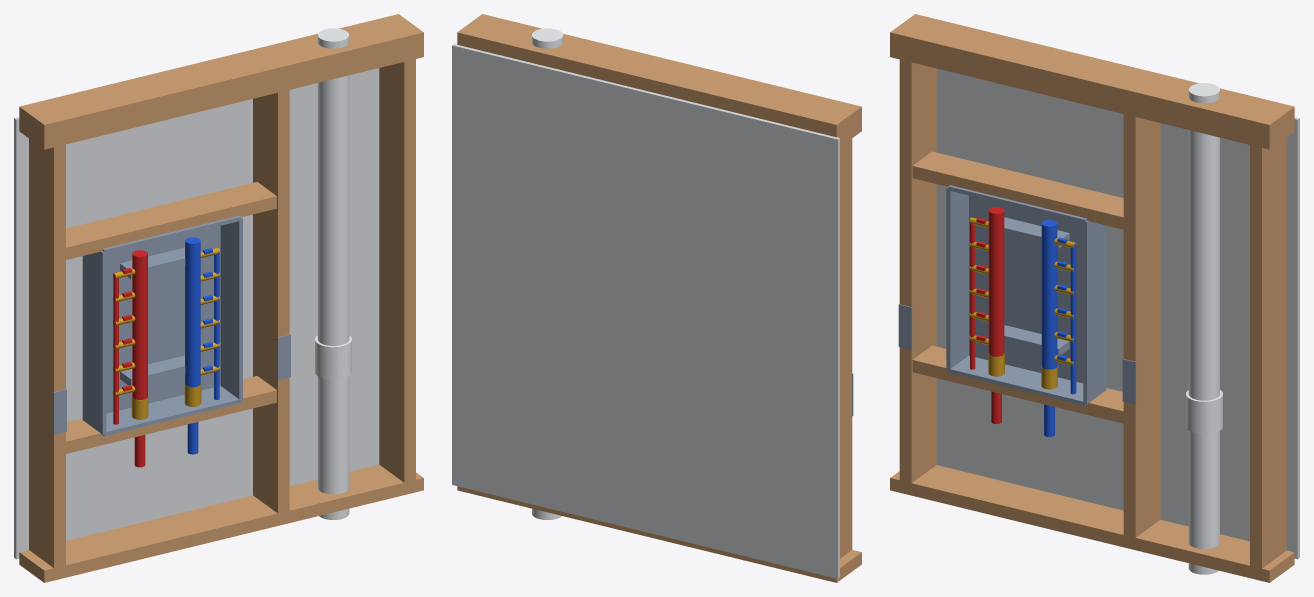
File: assembly-wet-wall-manifold-cutaway.glb
3 views of the same model, side by side, from view 1: azimuth 30°, elevation 25°; view 2: azimuth 150°, elevation 25°; view 3: azimuth 330°, elevation 25° (orthographic).
Parts seen in each view (by area): view 1: plumbing-manifold-pex-homerun-wet-wall-cutaway; view 2: plumbing-manifold-pex-homerun-wet-wall-cutaway; view 3: plumbing-manifold-pex-homerun-wet-wall-cutaway.
Part boxes in pixels (x1=…): plumbing-manifold-pex-homerun-wet-wall-cutaway: x1=14, y1=14, x2=423, y2=582; plumbing-manifold-pex-homerun-wet-wall-cutaway: x1=452, y1=14, x2=861, y2=582; plumbing-manifold-pex-homerun-wet-wall-cutaway: x1=890, y1=14, x2=1299, y2=582.
Size of the model in its own units: 1.24 by 1.47 by 0.156.
